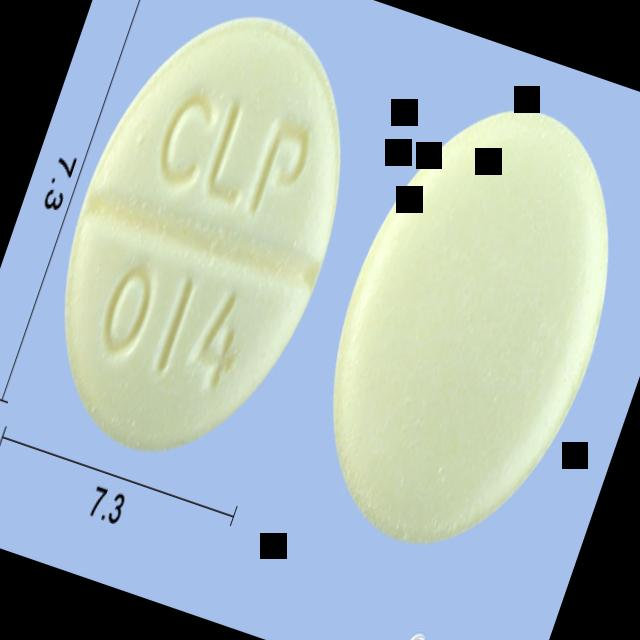Cipron: (11, 0, 392, 488), (279, 74, 640, 582)
